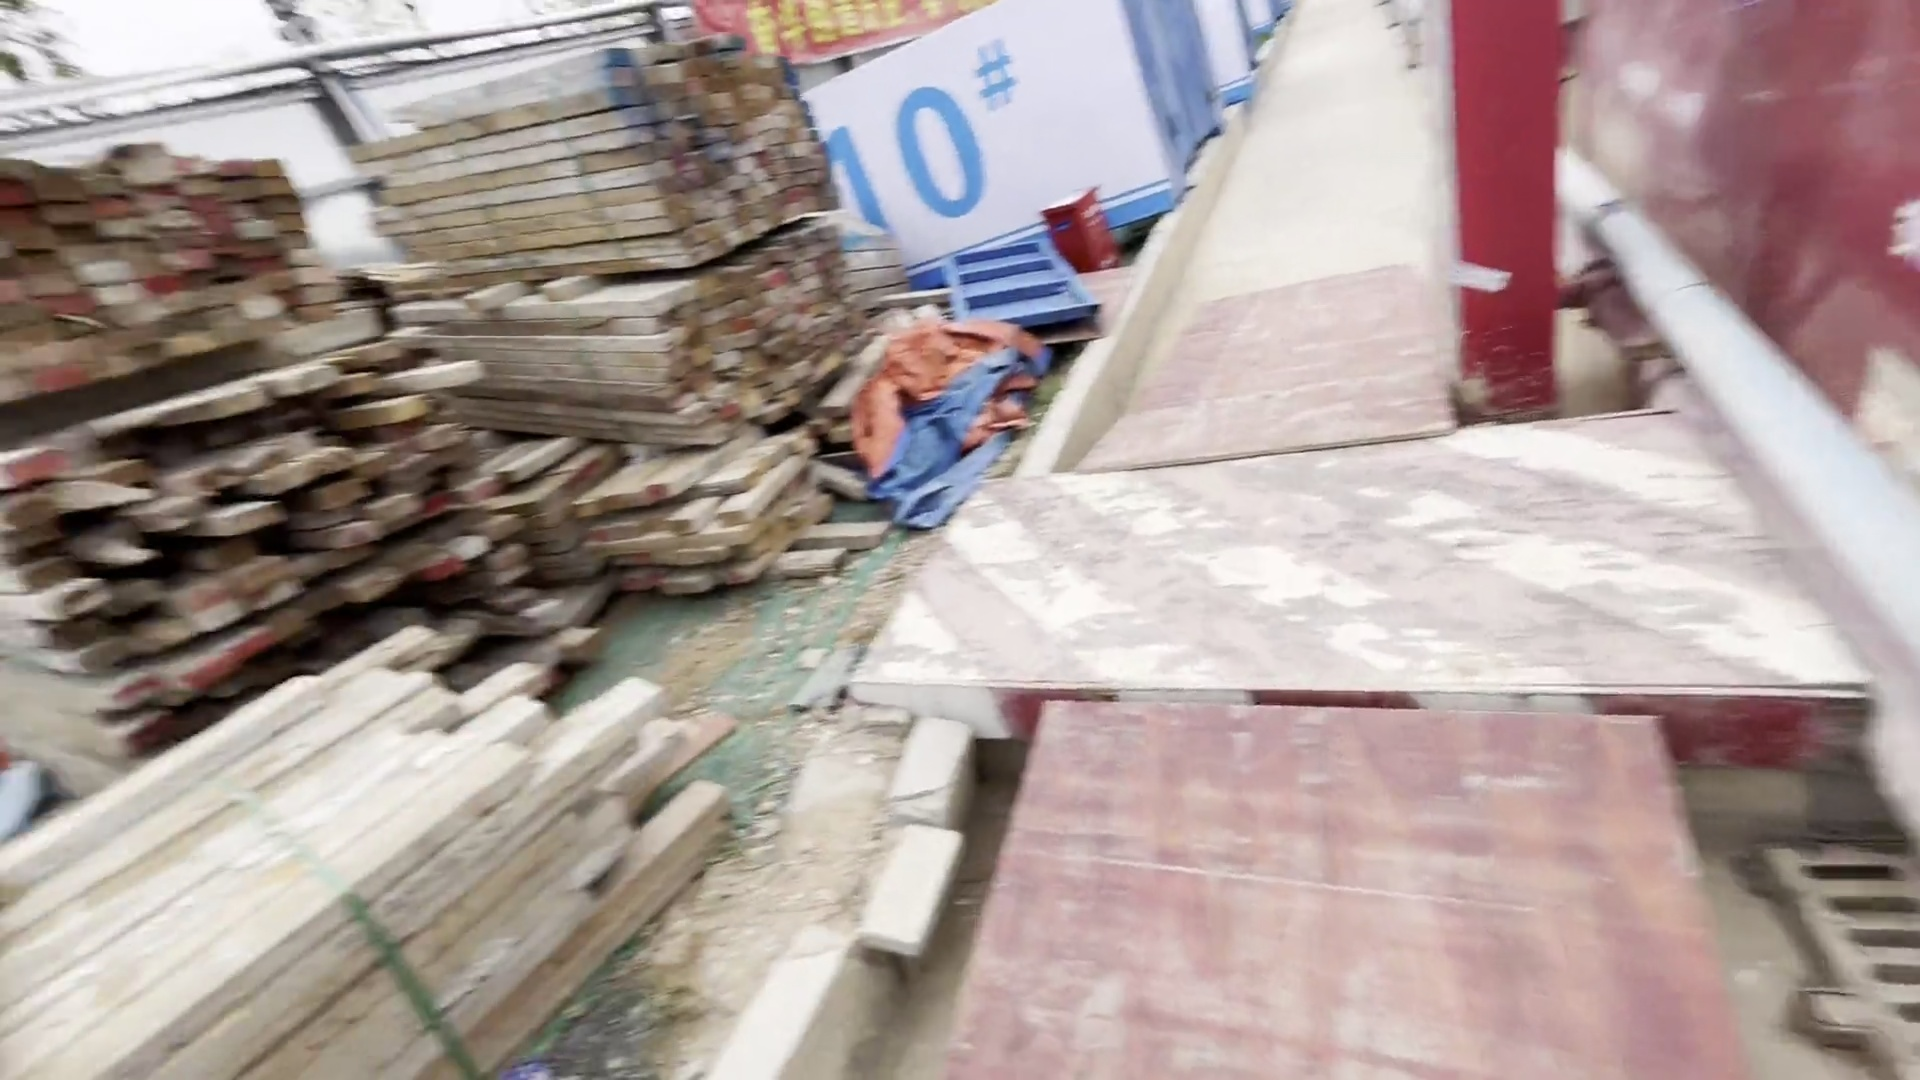wood: (5, 686, 713, 1077), (1, 156, 487, 669), (363, 91, 858, 567)
